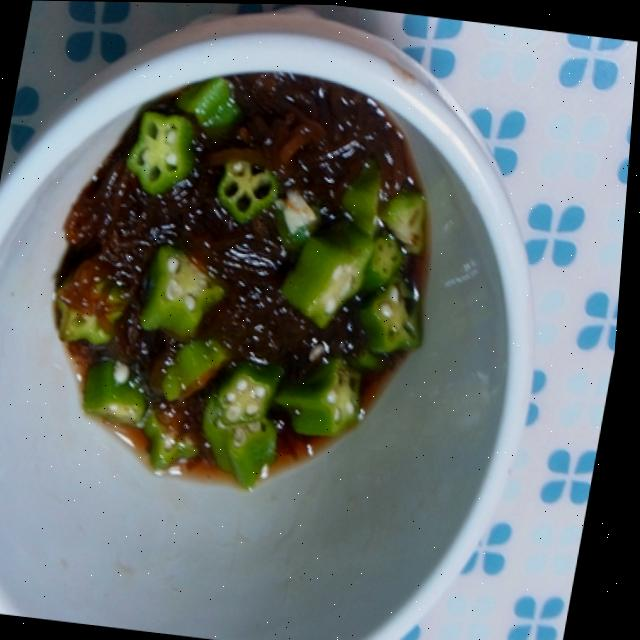蔬菜料理: (0, 27, 553, 640)
